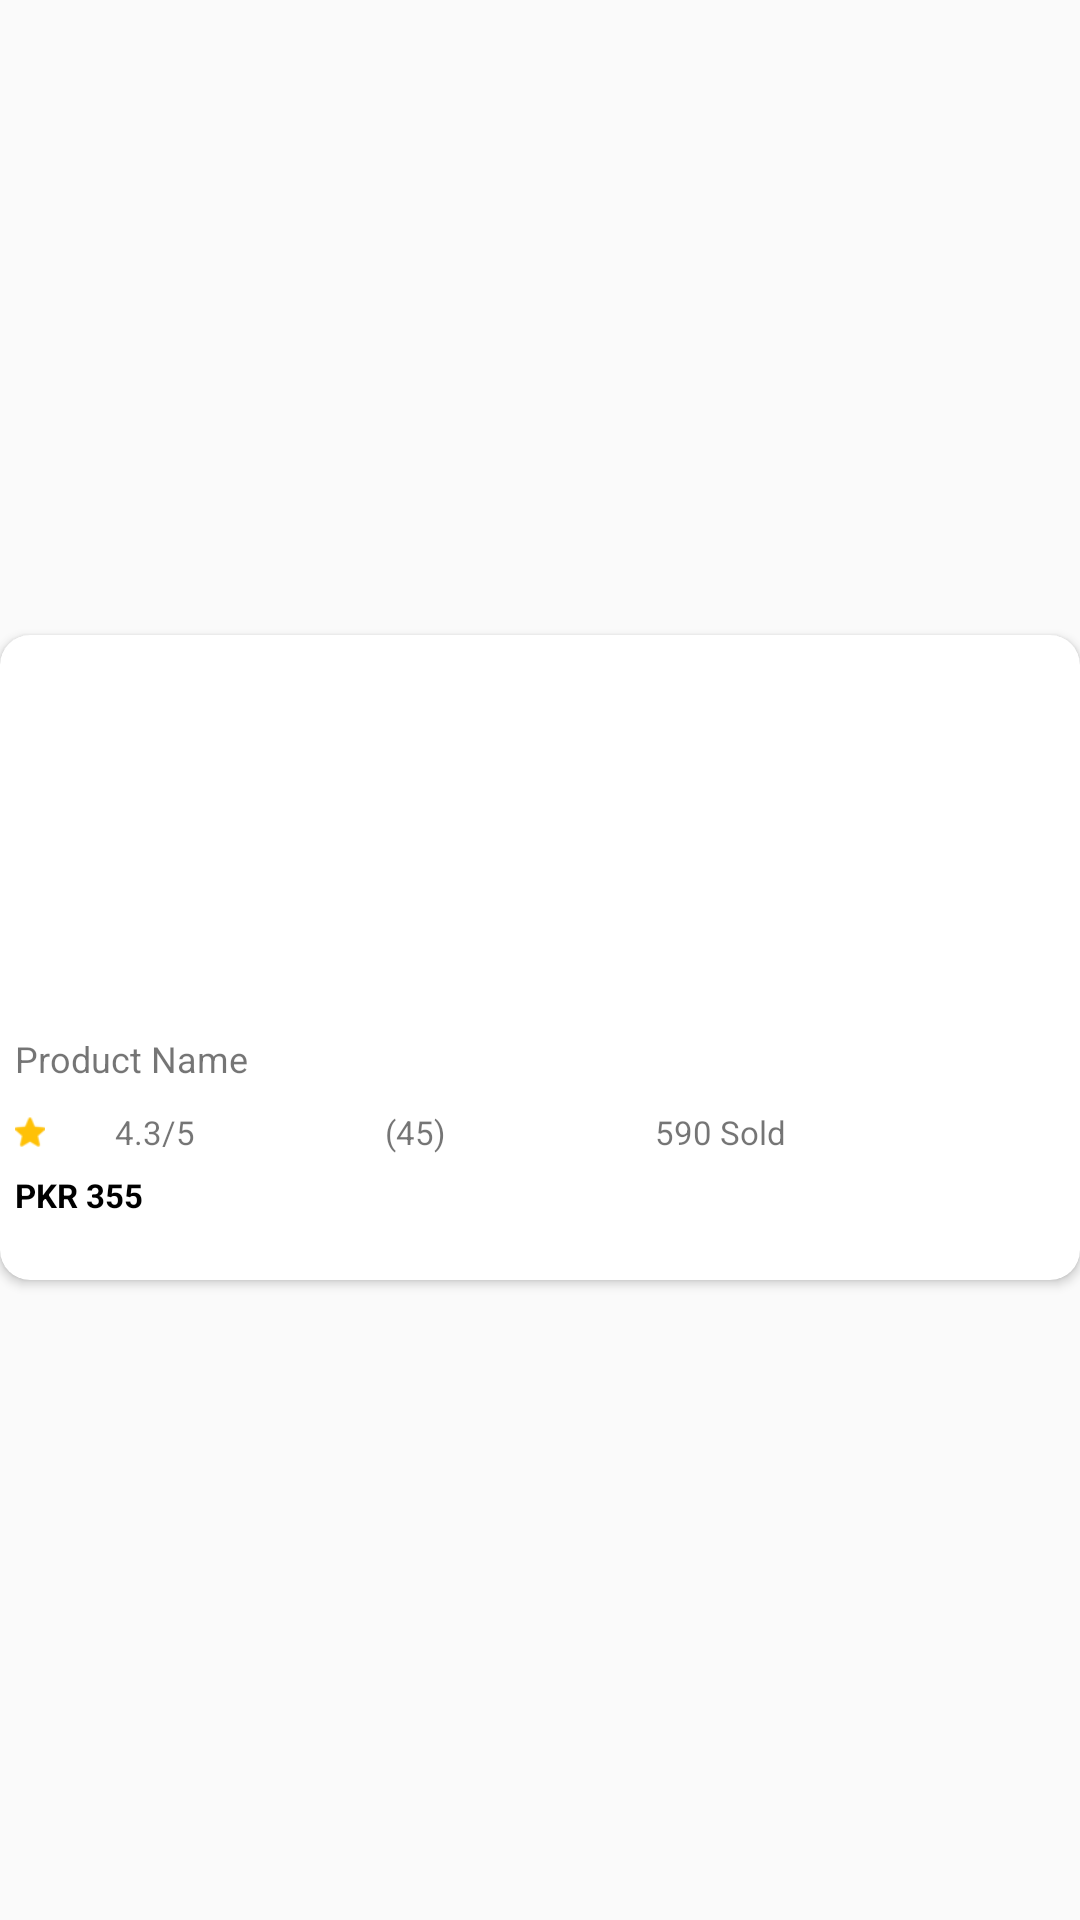

Where to tap for icons on this 1080px x 1920px app screen, as (x,y):
rating: (30,1132)
